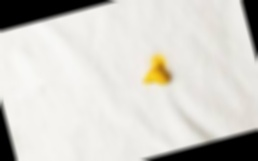mustard: (141, 55, 176, 93)
